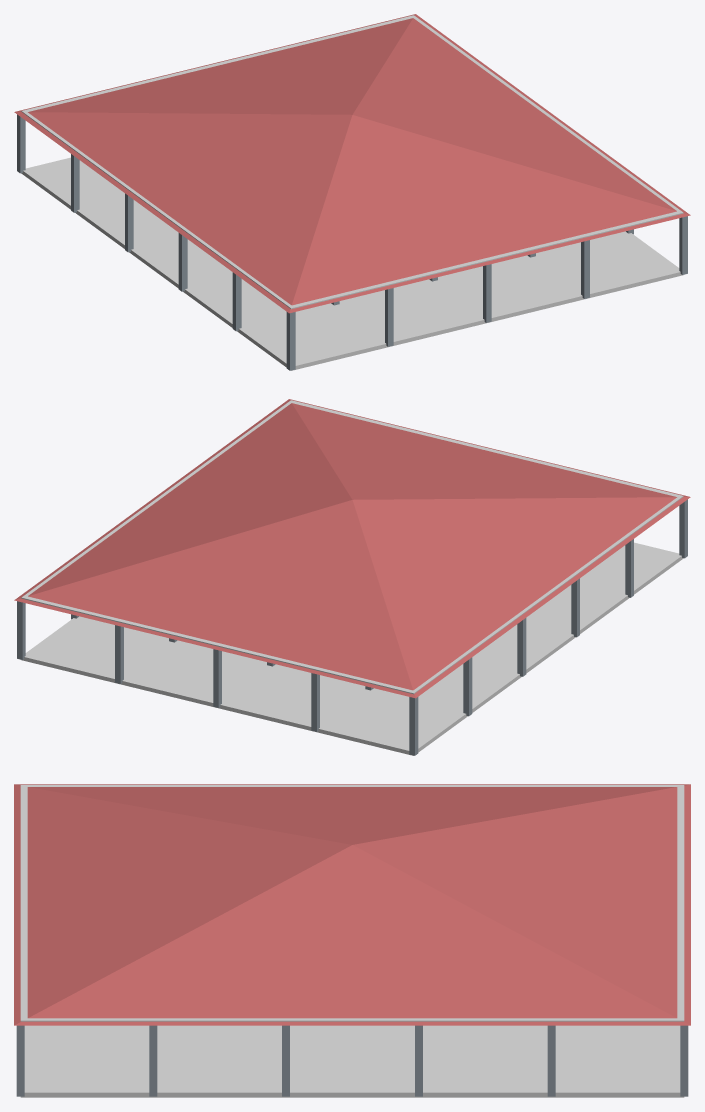
File: generated_building_1.glb
3 views of the same model, one above another, from view 1: azimuth 30°, elevation 25°; view 2: azimuth 150°, elevation 25°; view 3: azimuth 270°, elevation 25° (orthographic). The views are drawn at different scales.
Size of the model in its own units: 21.5 by 5.6 by 25.5.
